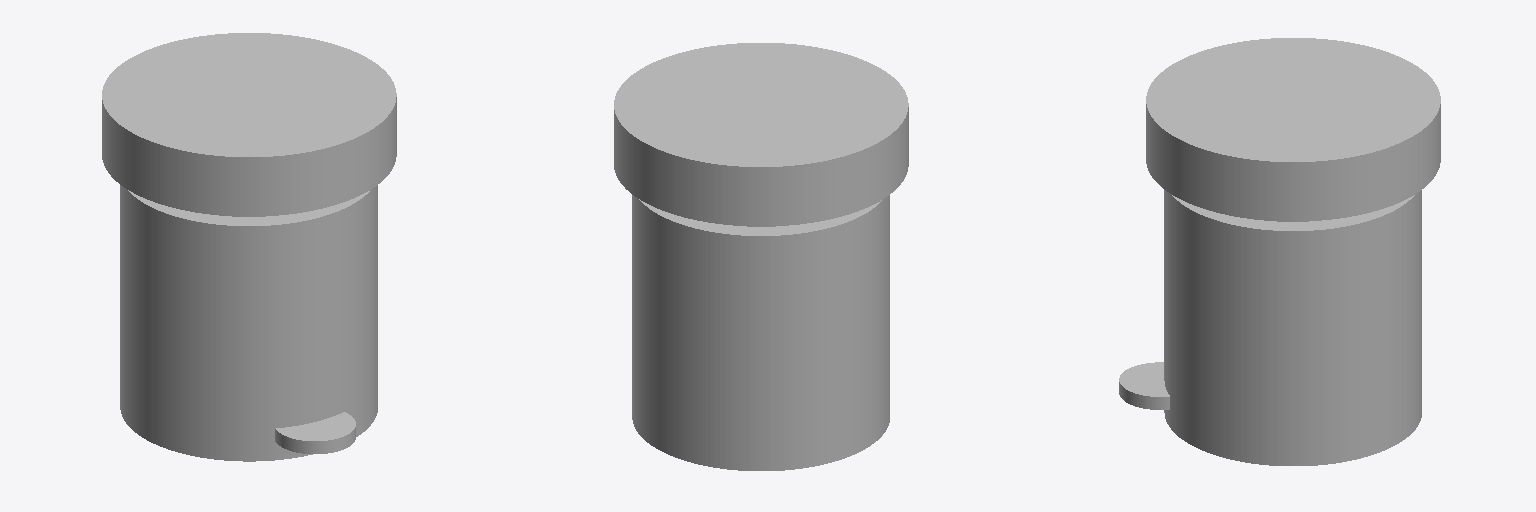
Rendered from PillBottle.obj.
3 renders of one model, left to right at view 1: azimuth 30°, elevation 25°; view 2: azimuth 150°, elevation 25°; view 3: azimuth 270°, elevation 25°, orthographic.
Parts seen in each view (by area): view 1: Cylinder; view 2: Cylinder; view 3: Cylinder.
Part boxes in pixels (bbox=[...]): Cylinder: bbox=[102, 33, 396, 461]; Cylinder: bbox=[614, 43, 908, 470]; Cylinder: bbox=[1119, 38, 1440, 465].
Size of the model in its own units: 2.27 by 2.65 by 2.48.